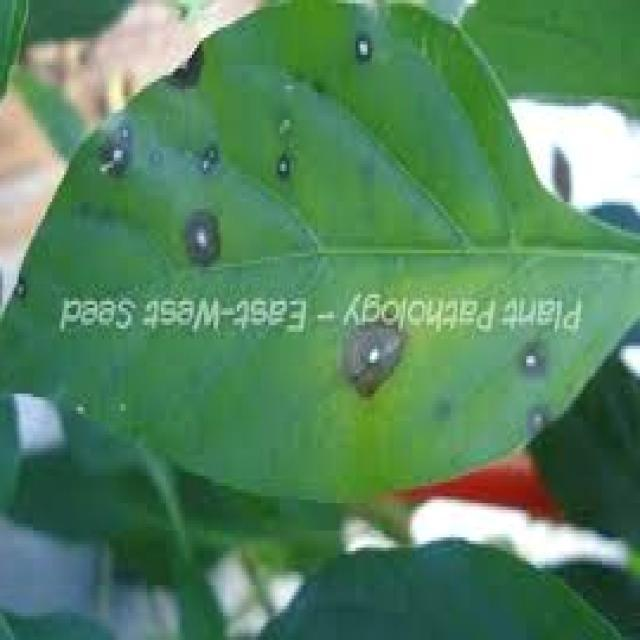Bercak Daun Serkospora: (2, 3, 640, 510)
